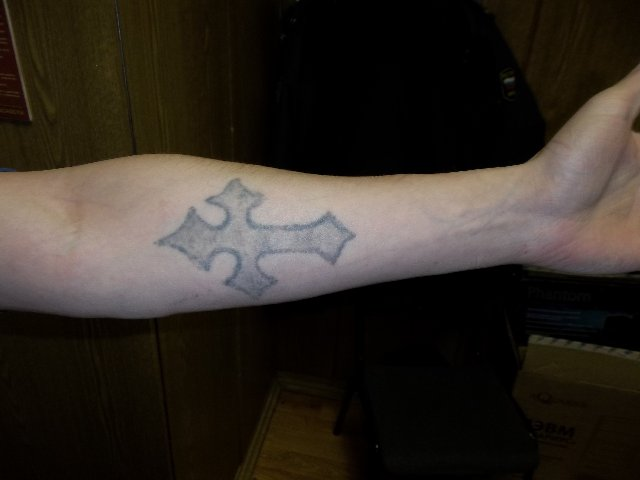tatu9_krest: (150, 172, 358, 303)
